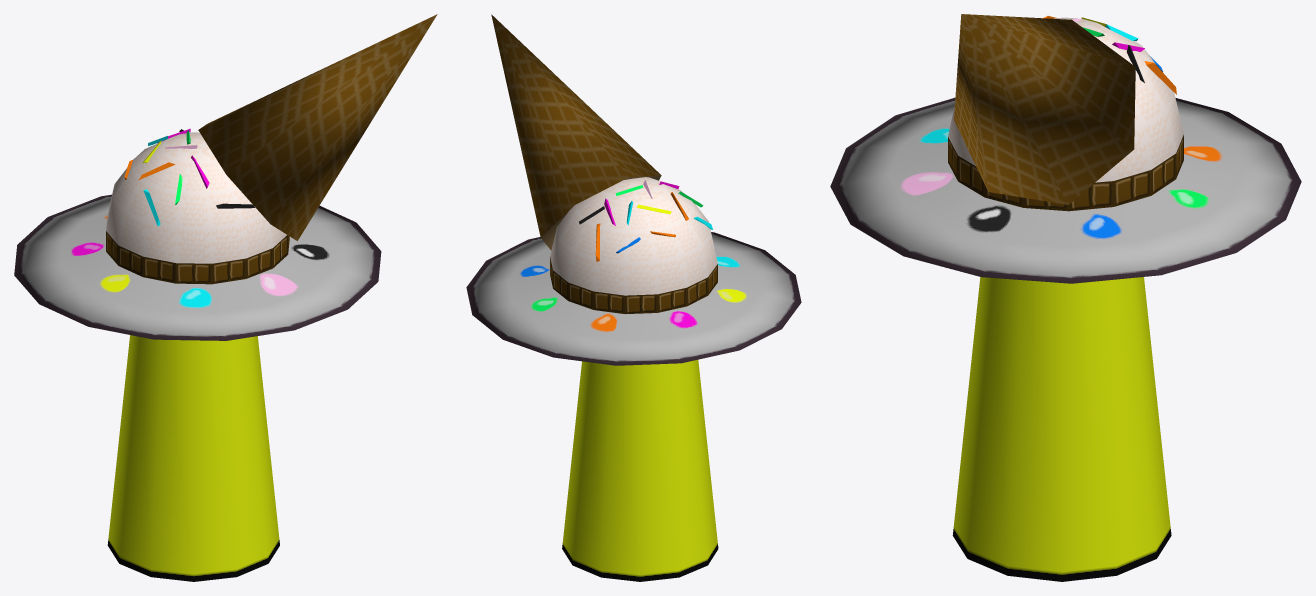
File: Ufo.fbx
The picture shows the model from 3 angles, left to right: view 1: azimuth 30°, elevation 25°; view 2: azimuth 150°, elevation 25°; view 3: azimuth 270°, elevation 25°; orthographic projection. The views are drawn at different scales.
Visible parts, largest first — view 1: Ufo, Beam, Disc; view 2: Ufo, Beam, Disc; view 3: Beam, Disc, Ufo.
Part boxes in pixels (x1,y1,x2,y2): Ufo: (106,14,437,284); Beam: (107,335,279,581); Disc: (14,194,381,340); Ufo: (491,14,717,314); Beam: (562,359,718,581); Disc: (466,232,801,365); Beam: (952,277,1171,581); Disc: (830,97,1301,283); Ufo: (948,14,1183,211).
Size of the model in its own units: 200 by 223 by 303.
Materials: 1 (1 with a texture image).
